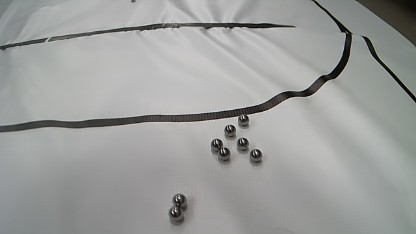ironball: (172, 193, 187, 209), (169, 205, 183, 221), (210, 138, 223, 152), (249, 149, 262, 162), (236, 137, 248, 151), (224, 124, 236, 137), (218, 147, 230, 160), (237, 114, 249, 126), (130, 0, 136, 1)
